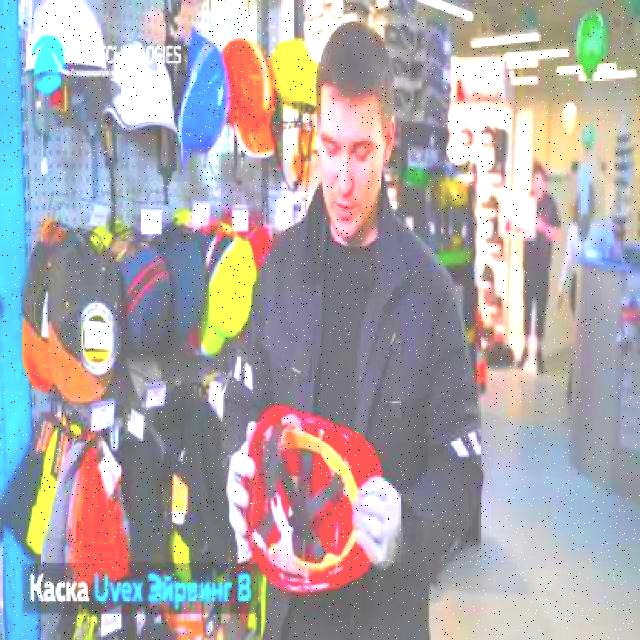Gloves: (352, 474, 403, 568), (226, 419, 259, 561)
Helmet: (244, 402, 382, 600), (174, 25, 233, 170), (105, 41, 182, 137), (220, 34, 277, 160), (23, 0, 109, 74), (270, 38, 319, 112)
